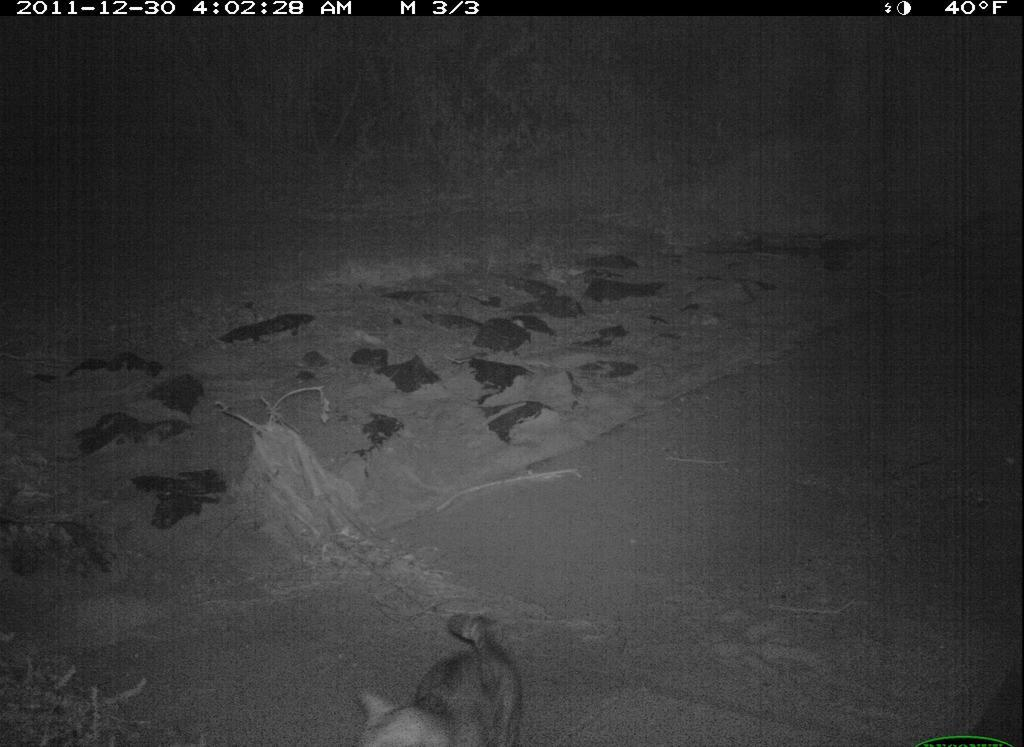cat: (332, 596, 546, 745)
